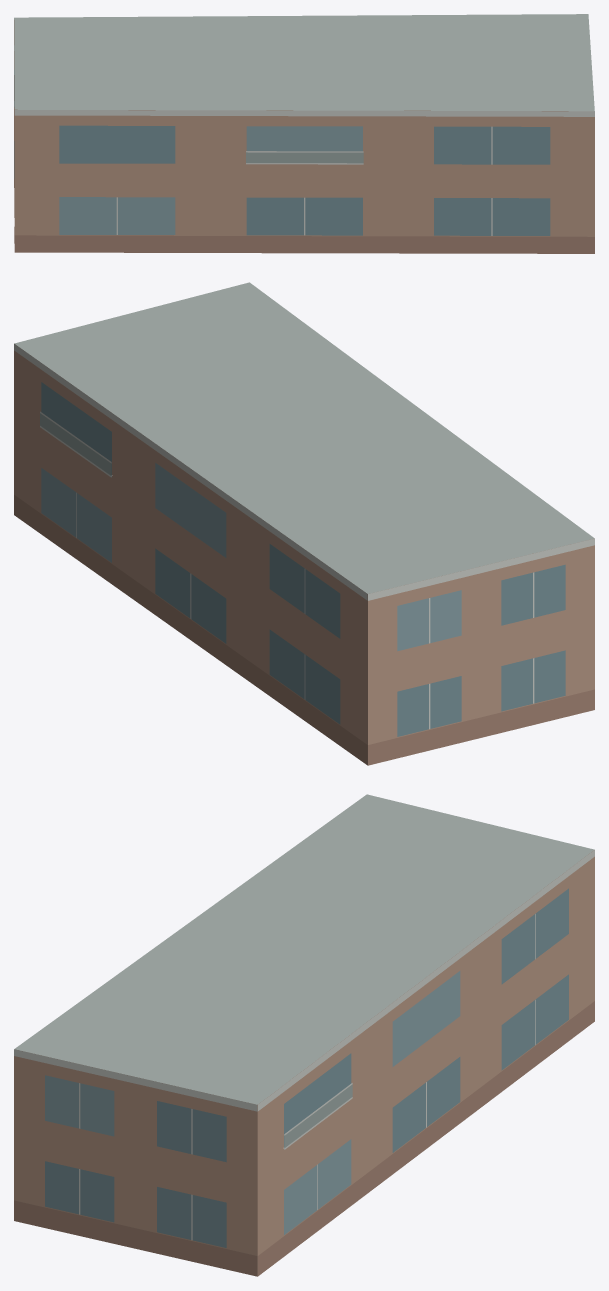
File: survey-upis-32908597.glb
3 views of the same model, one above another, from view 1: azimuth 30°, elevation 25°; view 2: azimuth 150°, elevation 25°; view 3: azimuth 270°, elevation 25° (orthographic). The views are drawn at different scales.
Visible parts, largest first — view 1: survey-upis-32908597.tmp; view 2: survey-upis-32908597.tmp; view 3: survey-upis-32908597.tmp.
Part boxes in pixels (x1=…): survey-upis-32908597.tmp: x1=14, y1=14, x2=594, y2=253; survey-upis-32908597.tmp: x1=14, y1=282, x2=594, y2=765; survey-upis-32908597.tmp: x1=14, y1=794, x2=594, y2=1276.
Size of the model in its own units: 23.65 by 6.1 by 18.7.
